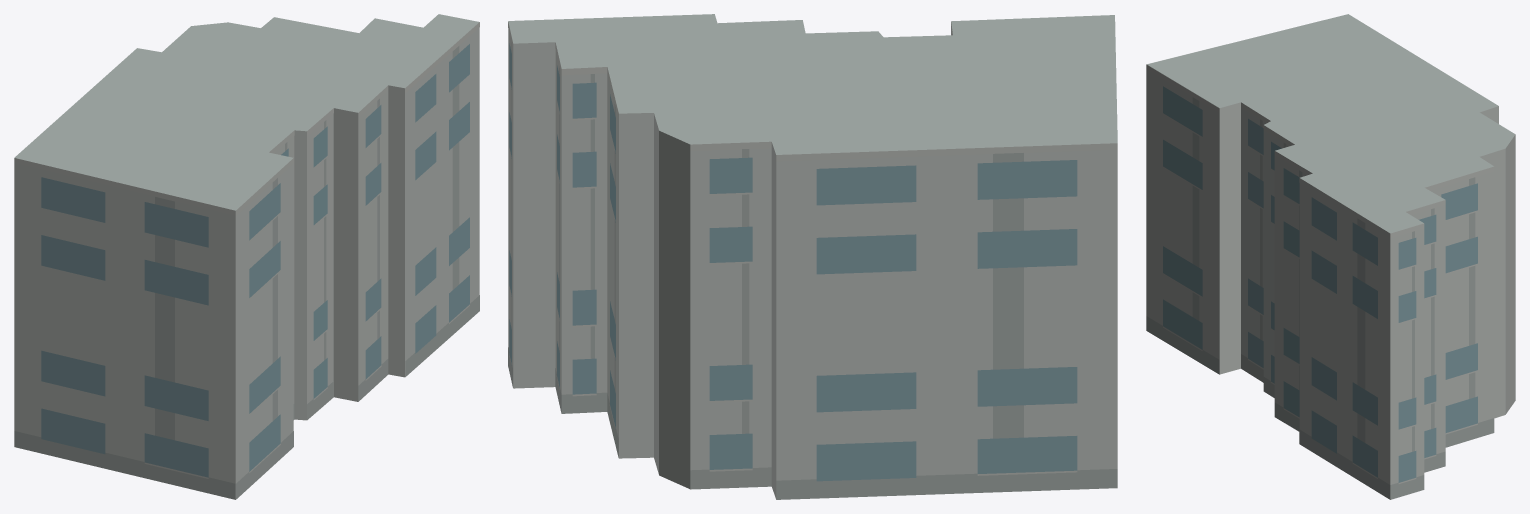
Rendered from survey-upis-32524902.glb.
The picture shows the model from 3 angles, left to right: view 1: azimuth 30°, elevation 25°; view 2: azimuth 150°, elevation 25°; view 3: azimuth 270°, elevation 25°; orthographic projection. The views are drawn at different scales.
Parts seen in each view (by area): view 1: survey-upis-32524902.tmp; view 2: survey-upis-32524902.tmp; view 3: survey-upis-32524902.tmp.
Part boxes in pixels (x1,y1,x2,y2): survey-upis-32524902.tmp: [14, 14, 479, 499]; survey-upis-32524902.tmp: [508, 14, 1117, 499]; survey-upis-32524902.tmp: [1146, 14, 1515, 499].
Bounding box in the file's own units: 23.34 × 13.2 × 16.59.
